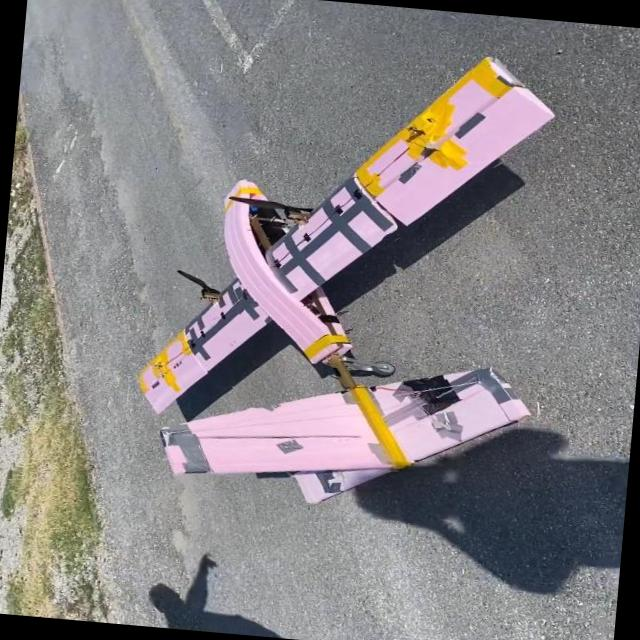UAV: (130, 70, 575, 527)
